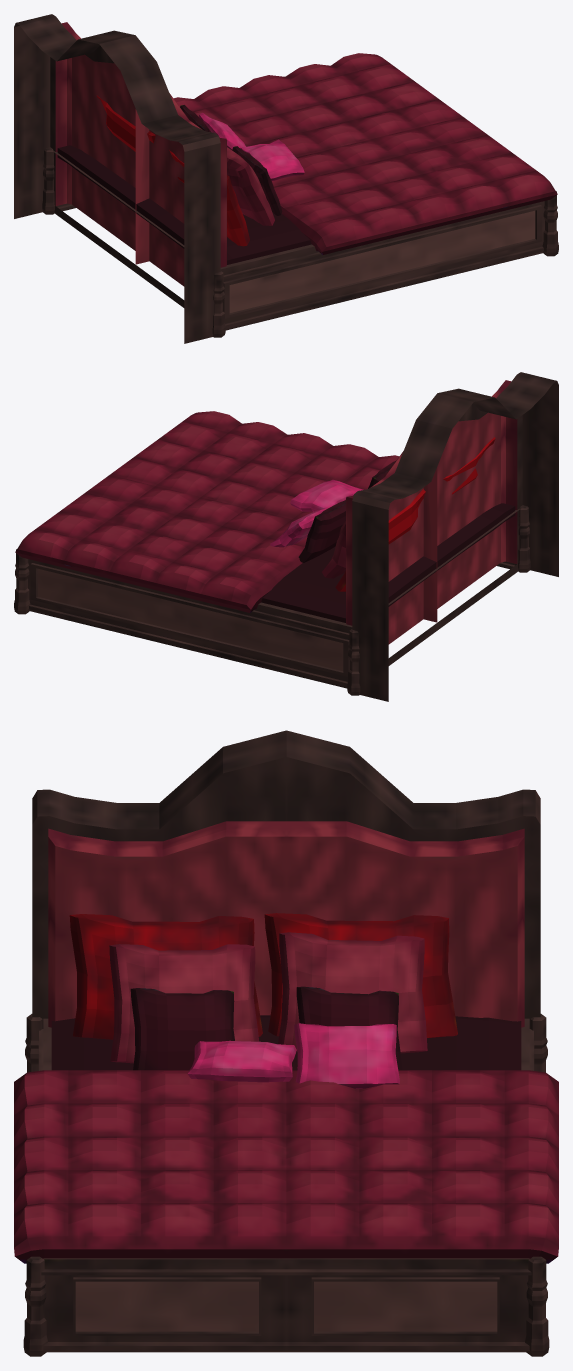
The model's file is E_Bed.fbx.
3 views of the same model, one above another, from view 1: azimuth 30°, elevation 25°; view 2: azimuth 150°, elevation 25°; view 3: azimuth 270°, elevation 25° (orthographic). The views are drawn at different scales.
Parts seen in each view (by area): view 1: Cube.041; view 2: Cube.041; view 3: Cube.041.
Part boxes in pixels (box(x1,y1,x2,y2)): Cube.041: box(14, 14, 558, 343); Cube.041: box(14, 372, 558, 701); Cube.041: box(14, 730, 558, 1356).
Size of the model in its own units: 502 by 305 by 425.
